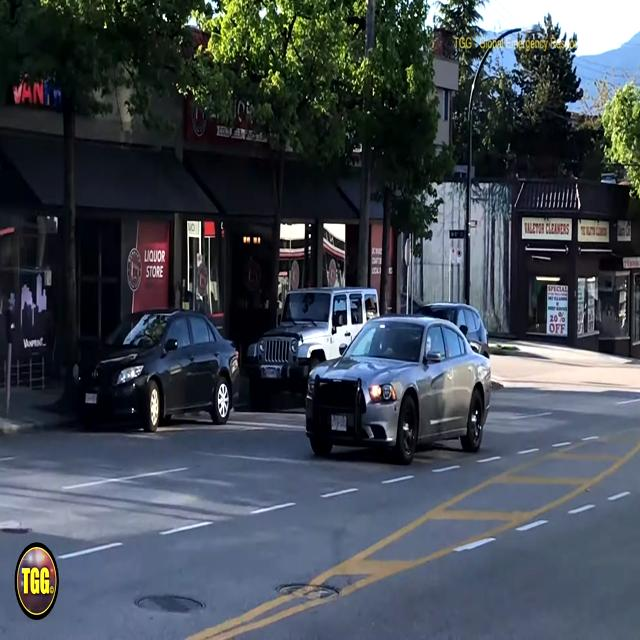emergency-vehicles: (294, 307, 506, 470)
